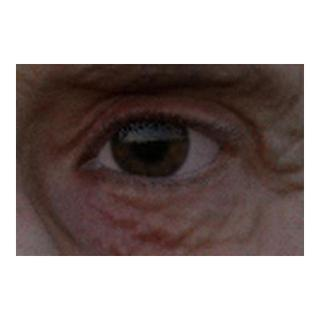pupil: (132, 125, 166, 159)
